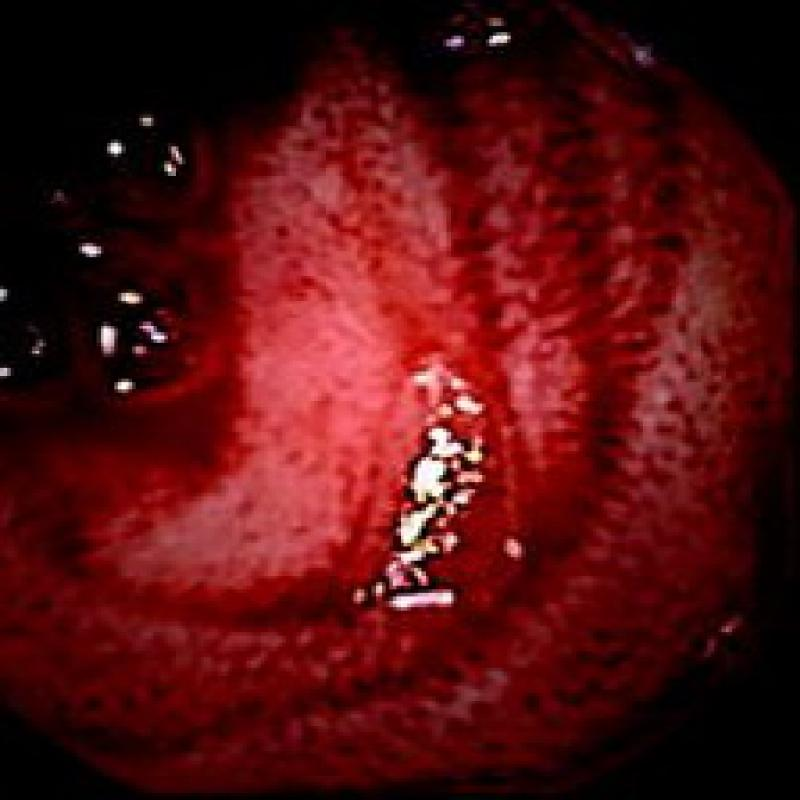bleeding: (0, 10, 800, 798)
